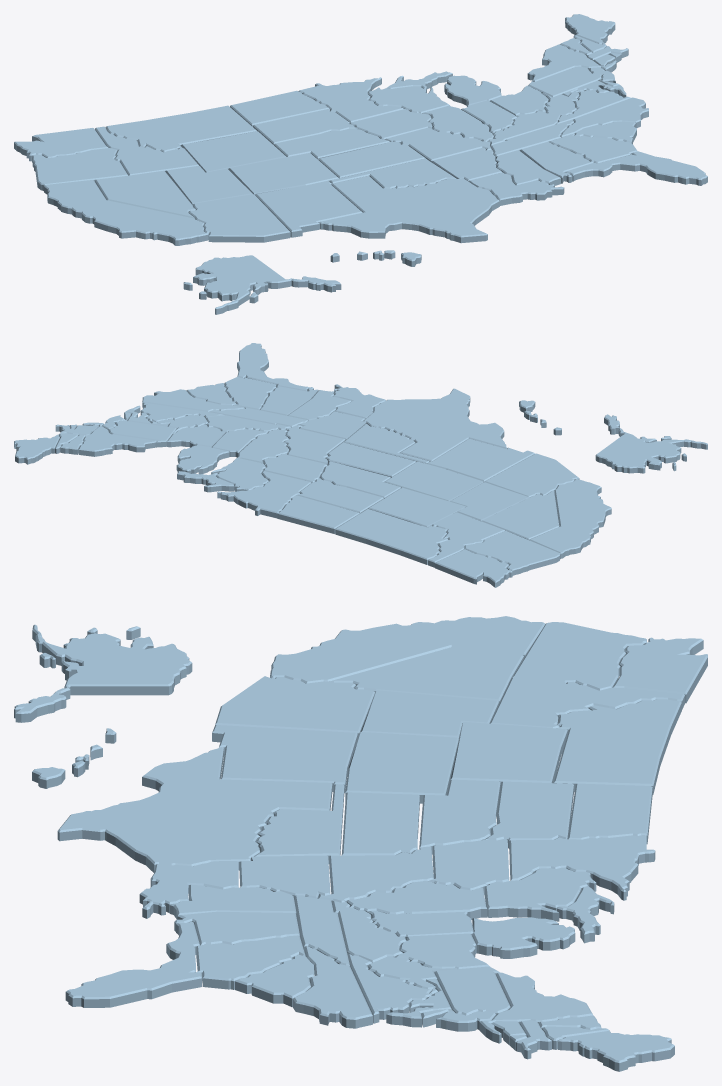
Rendered from USA_Map.glb.
The picture shows the model from 3 angles, top to bottom: view 1: azimuth 30°, elevation 25°; view 2: azimuth 150°, elevation 25°; view 3: azimuth 270°, elevation 25°; orthographic projection. The views are drawn at different scales.
Visible parts, largest first — view 1: Texas, California, Alaska, Montana, Arizona, New Mexico, Nevada, Colorado, Wyoming, Oregon, Florida, Minnesota (+31 smaller); view 2: Texas, California, Montana, Alaska, New Mexico, Arizona, Oregon, Nevada, Colorado, Wyoming, Minnesota, North dakota (+31 smaller); view 3: Texas, California, Alaska, Montana, New Mexico, Arizona, Nevada, Colorado, Wyoming, Oregon, Minnesota, Idaho (+34 smaller).
Boxes of the visible parts, x1,y1,x2,y2 form: Texas: (318,175,499,243); California: (44,180,209,245); Alaska: (183,255,341,314); Montana: (105,105,256,152); Arizona: (189,194,290,242); New Mexico: (255,180,362,237); Nevada: (95,170,195,218); Colorado: (228,153,338,194); Wyoming: (181,131,286,172); Oregon: (32,148,127,190); Florida: (565,151,707,185); Minnesota: (298,77,403,122); Texas: (363,388,507,461); California: (529,479,611,558); Montana: (335,509,448,564); Alaska: (595,414,707,473); New Mexico: (427,438,535,481); Arizona: (484,453,579,497); Oregon: (464,530,560,575); Nevada: (481,490,559,539); Colorado: (385,461,483,501); Wyoming: (368,487,465,527); Minnesota: (217,471,311,518); North dakota: (277,495,359,533); Texas: (57,747,332,872); California: (270,616,545,683); Alaska: (14,624,192,722); Montana: (554,699,681,794); New Mexico: (212,725,357,793); Arizona: (215,676,375,741); Nevada: (330,647,524,704); Colorado: (345,732,458,803); Wyoming: (450,722,567,786); Oregon: (512,622,646,690); Minnesota: (509,835,655,900); Idaho: (490,677,684,728).
Size of the model in its own units: 9.31 by 0.1001 by 6.12.
